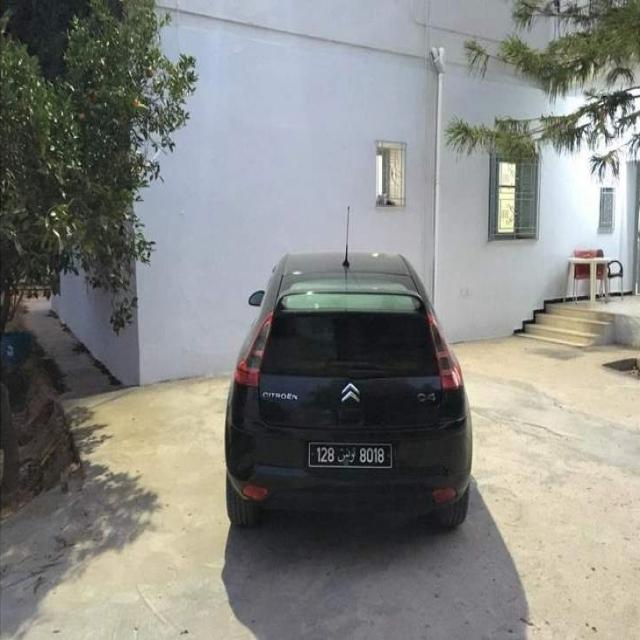licence plate: (310, 445, 390, 466)
